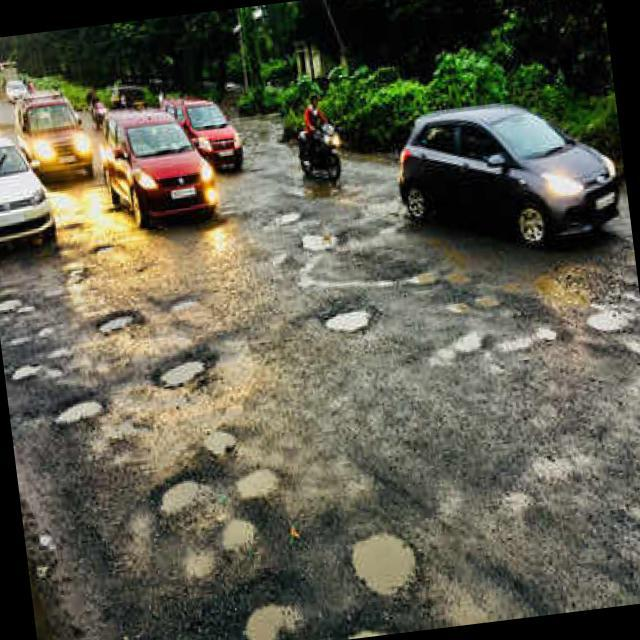Pothole: (355, 520, 419, 597), (238, 590, 306, 640), (492, 312, 560, 358), (418, 323, 483, 369), (150, 346, 211, 394), (216, 507, 270, 559), (48, 384, 106, 431), (155, 470, 205, 521), (197, 420, 246, 464), (234, 463, 284, 503), (586, 295, 632, 336), (327, 305, 378, 341), (167, 546, 217, 582), (437, 294, 498, 321), (402, 255, 446, 292), (292, 228, 343, 258), (333, 617, 388, 640), (98, 306, 137, 338), (10, 354, 42, 386), (168, 291, 200, 316), (89, 235, 117, 261), (0, 291, 26, 317), (274, 210, 304, 226)
